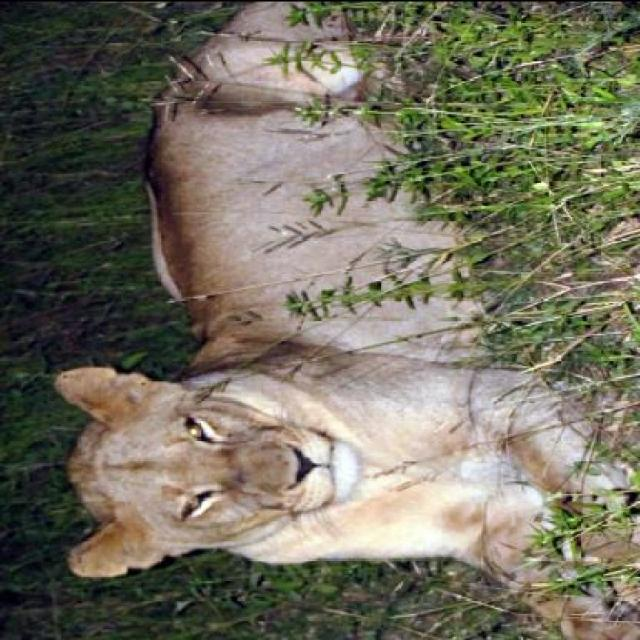Lion: (37, 3, 638, 609)
